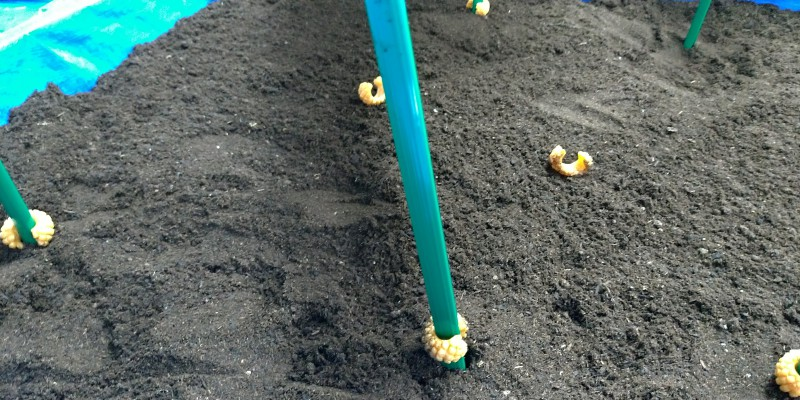eggs: (416, 308, 476, 367), (1, 201, 56, 253), (545, 142, 597, 182), (768, 342, 799, 400), (357, 75, 395, 109), (461, 1, 494, 17)
